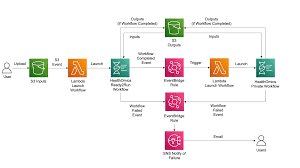eventbridge: (165, 58, 183, 77), (165, 93, 184, 111)
lambda: (68, 59, 87, 77), (210, 58, 228, 77)
s3: (29, 59, 48, 77), (165, 19, 183, 37)
sns: (166, 131, 184, 150)
